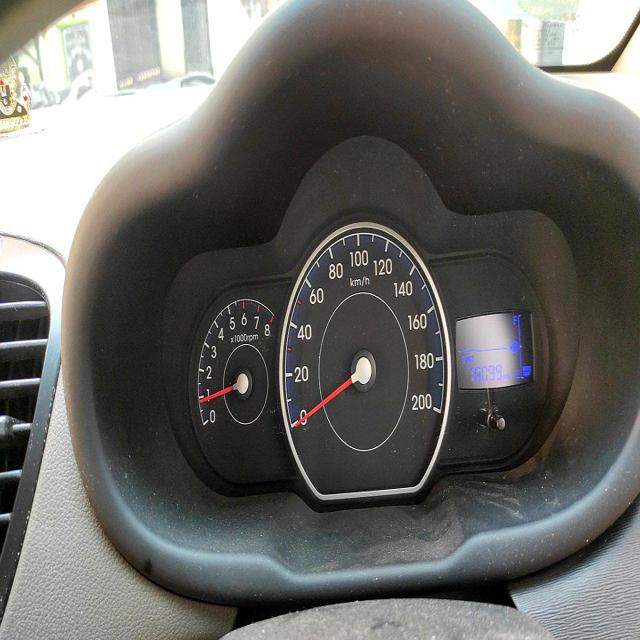odometer: (465, 362, 503, 388)
